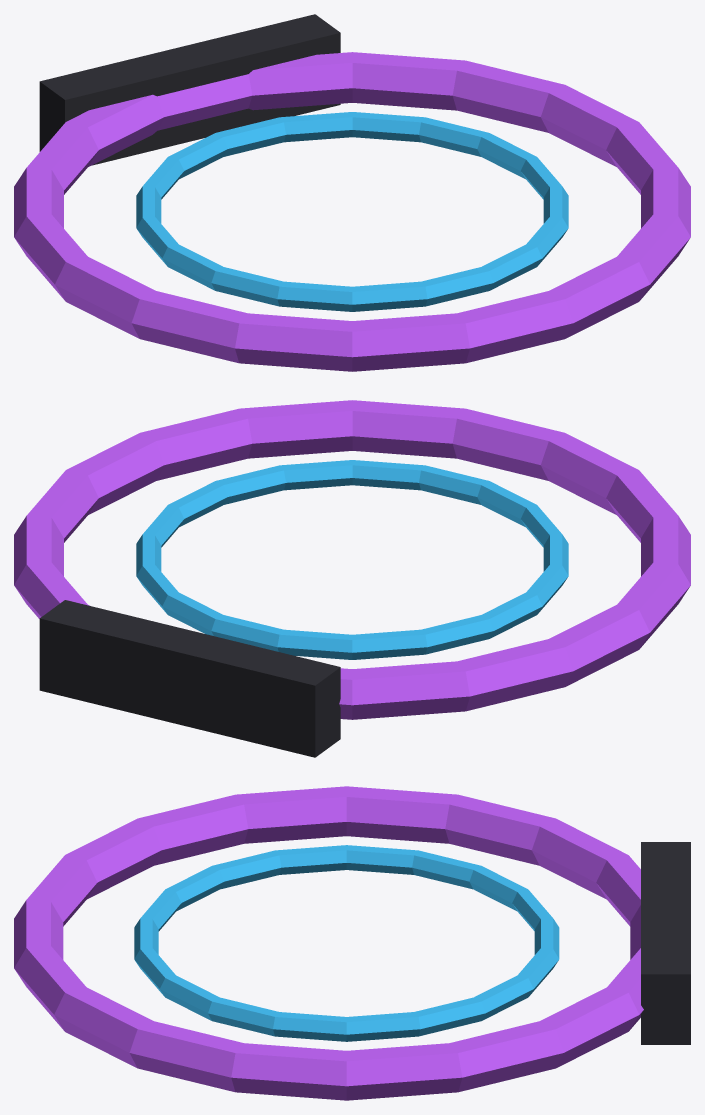
The model's file is zero_g_ring_gate.glb.
3 views of the same model, one above another, from view 1: azimuth 30°, elevation 25°; view 2: azimuth 150°, elevation 25°; view 3: azimuth 270°, elevation 25° (orthographic).
Parts seen in each view (by area): view 1: outer, inner, base; view 2: outer, base, inner; view 3: outer, inner, base.
Part boxes in pixels (x1,y1,x2,y2): outer: (14,52,690,371); inner: (136,112,568,311); base: (39,14,340,165); outer: (14,400,690,719); base: (39,600,340,757); inner: (136,460,568,659); outer: (14,786,643,1100); inner: (134,845,559,1041); base: (641,842,690,1044).
Size of the model in its own units: 2.16 by 0.25 by 2.16.
